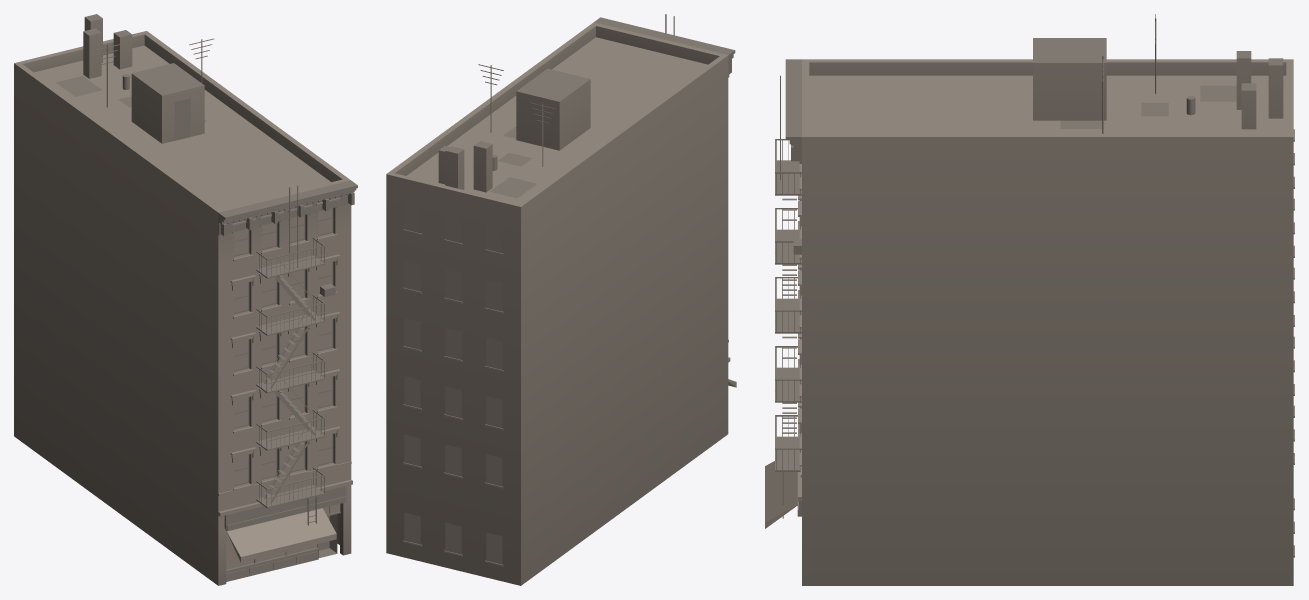
The model's file is tenement_a.glb.
The picture shows the model from 3 angles, left to right: view 1: azimuth 30°, elevation 25°; view 2: azimuth 150°, elevation 25°; view 3: azimuth 270°, elevation 25°; orthographic projection. The views are drawn at different scales.
Visible parts, largest first — view 1: tenement_a; view 2: tenement_a; view 3: tenement_a.
Boxes of the visible parts, bbox=[...] form: tenement_a: bbox=[14, 14, 357, 585]; tenement_a: bbox=[386, 14, 736, 585]; tenement_a: bbox=[765, 14, 1294, 585].
Bounding box in the file's own units: 7.5 × 23.14 × 21.55.
